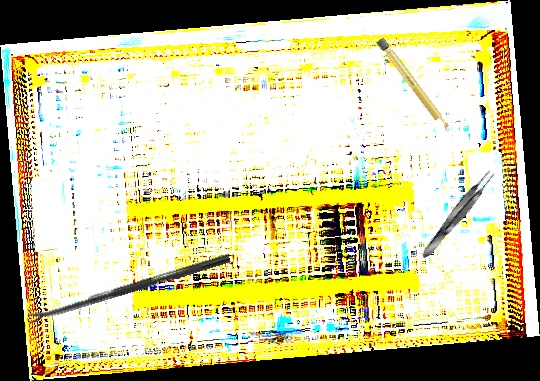Scalpel Handle: (376, 37, 452, 134)
Surgical Spoon: (27, 252, 231, 324)
Tissue Forceps: (416, 166, 499, 263)
